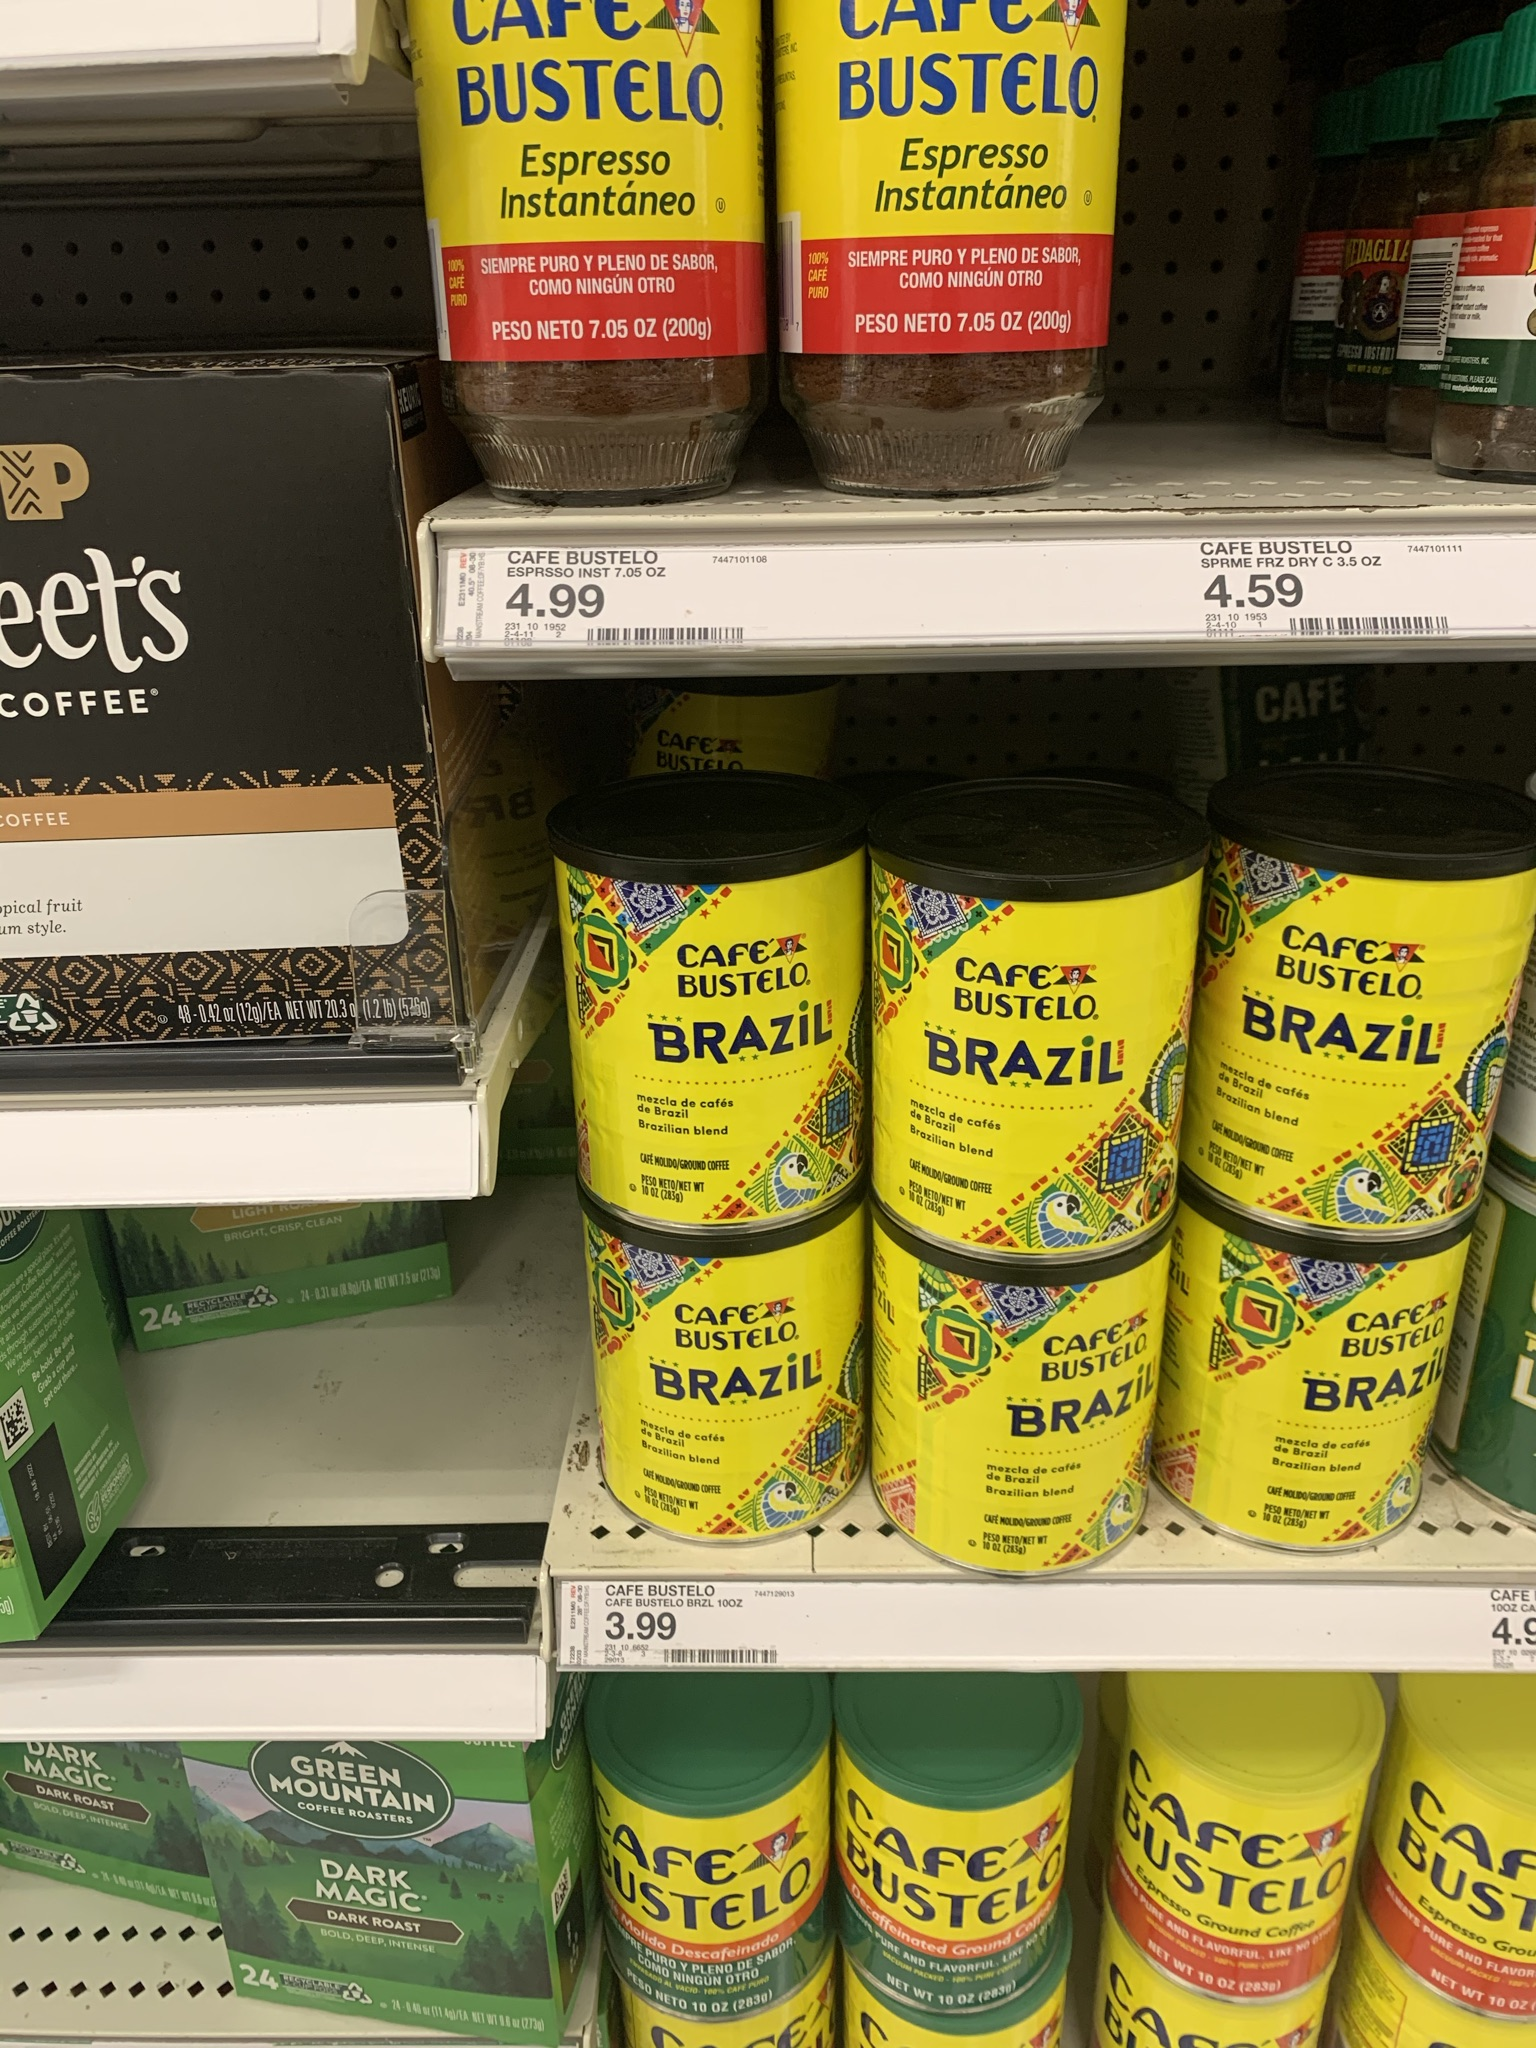can: (873, 847, 1196, 1263), (1212, 824, 1526, 1238), (558, 834, 863, 1235), (870, 1263, 1167, 1584), (579, 1230, 866, 1543), (1179, 1235, 1452, 1555), (1112, 1743, 1360, 2000), (589, 1779, 833, 2017), (849, 1772, 1066, 2014)
